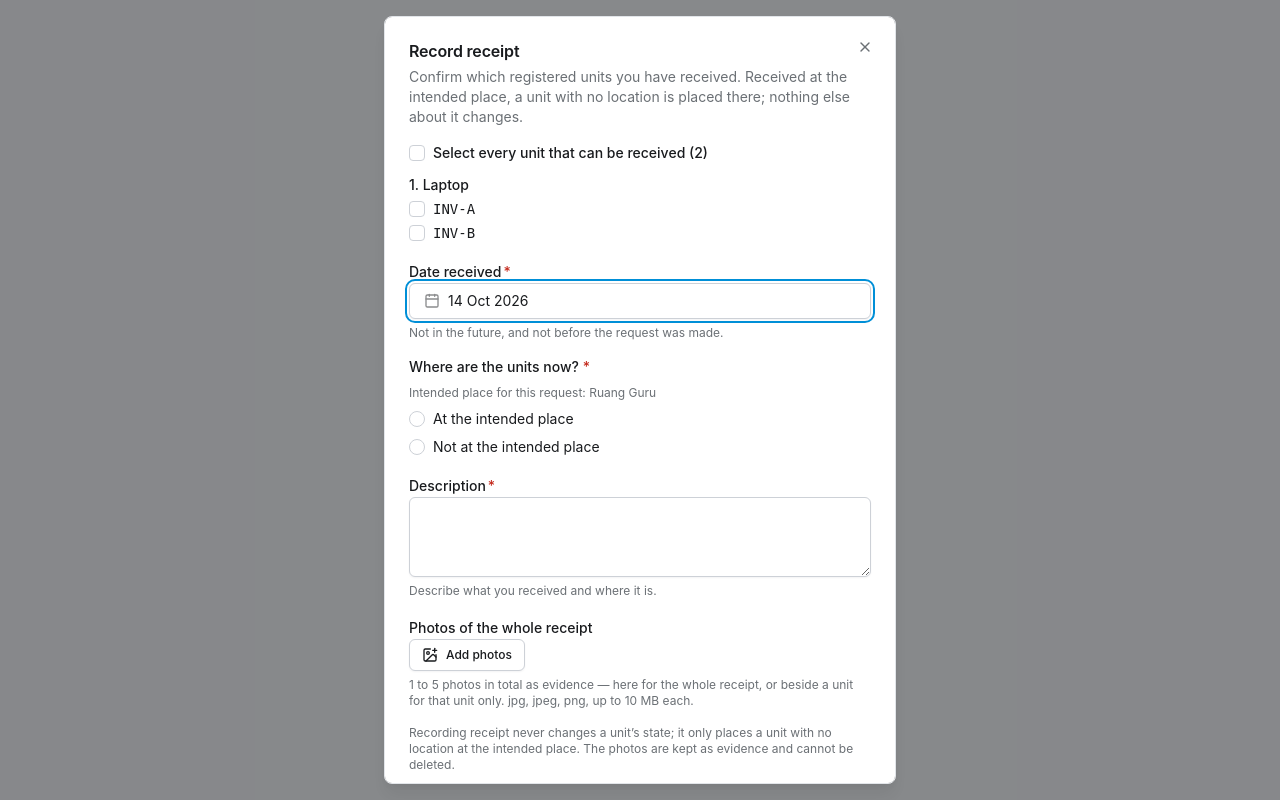
Test: Record receipt — what happens to each unit’s location › places an unplaced unit at the intended place, and keeps a placed one where it is
The image size is (1280, 800).
Step 1. Click the checkbox labelled "INV-A" → (417, 209), box x1=409 y1=201 x2=425 y2=217
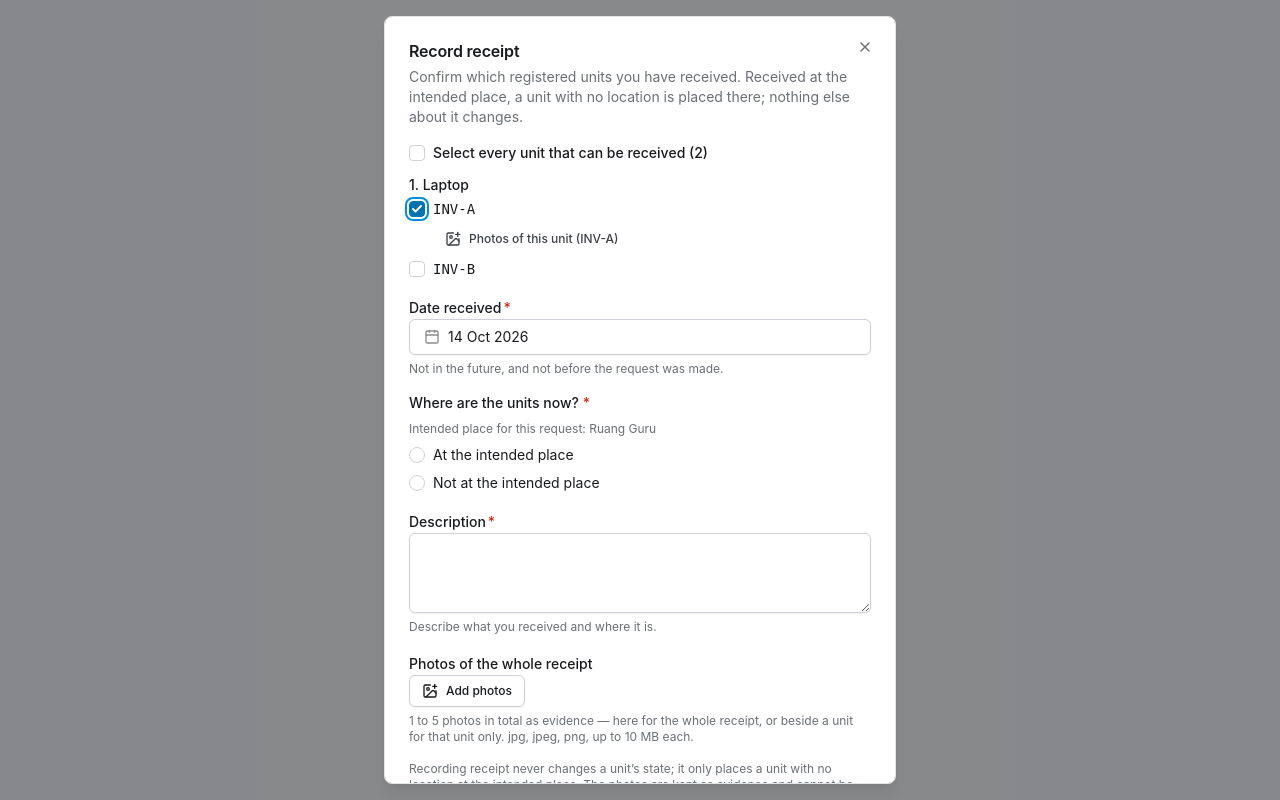
Step 2. Click the checkbox labelled "INV-B" → (417, 269), box x1=409 y1=261 x2=425 y2=277
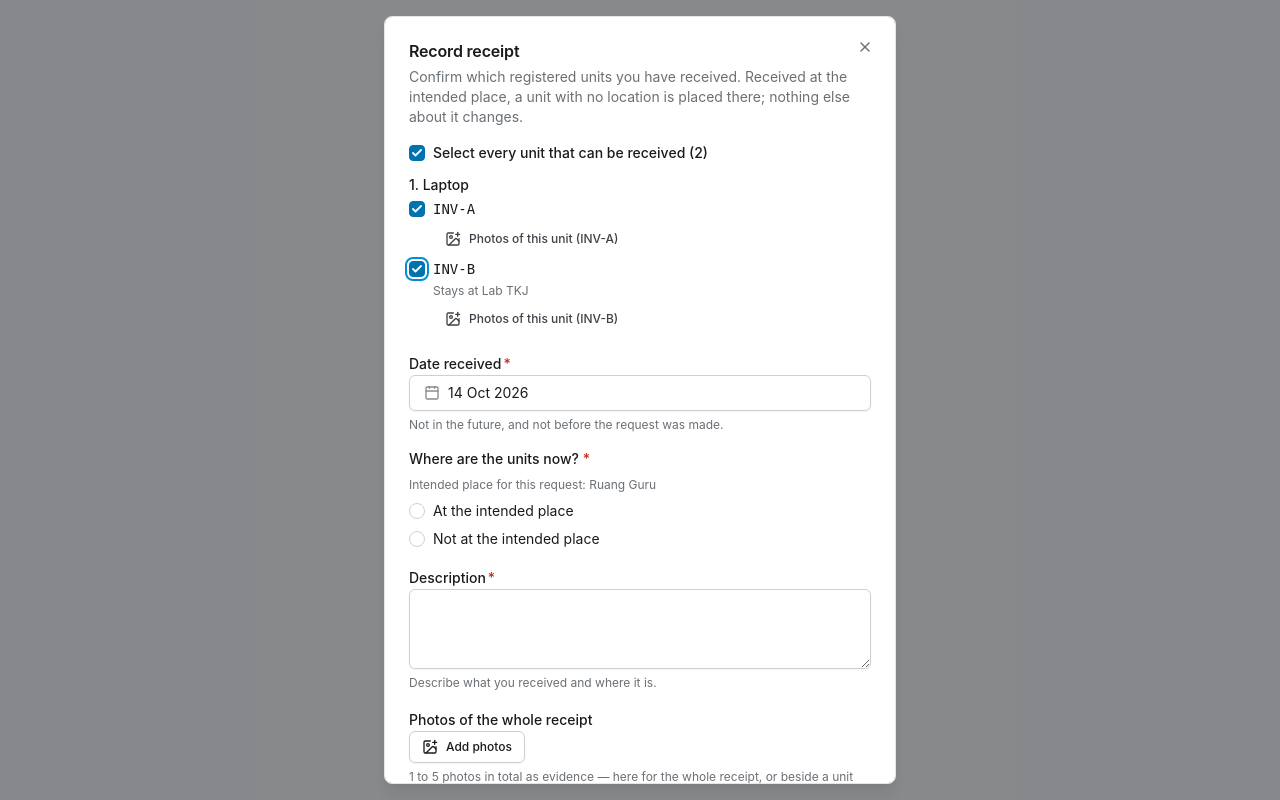
Step 3. Click the radio button labelled "At the intended place" → (417, 511), box x1=409 y1=503 x2=425 y2=519
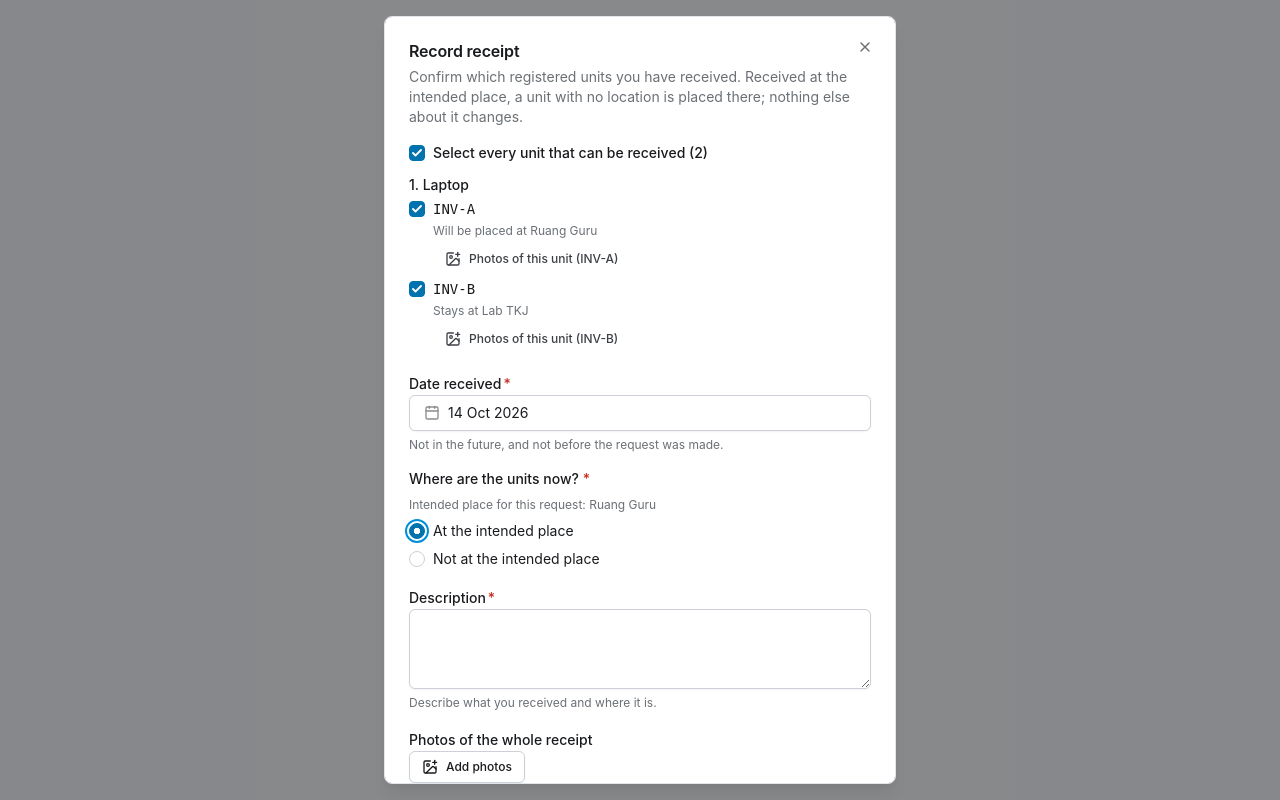
Expected: the text with test id "receipt-unit-placement-INV-B" reads "Stays at Lab TKJ", x1=433 y1=303 x2=529 y2=318
Expected: the text with test id "receipt-unit-placement-INV-A" reads "Will be placed at Ruang Guru", x1=433 y1=223 x2=597 y2=238
